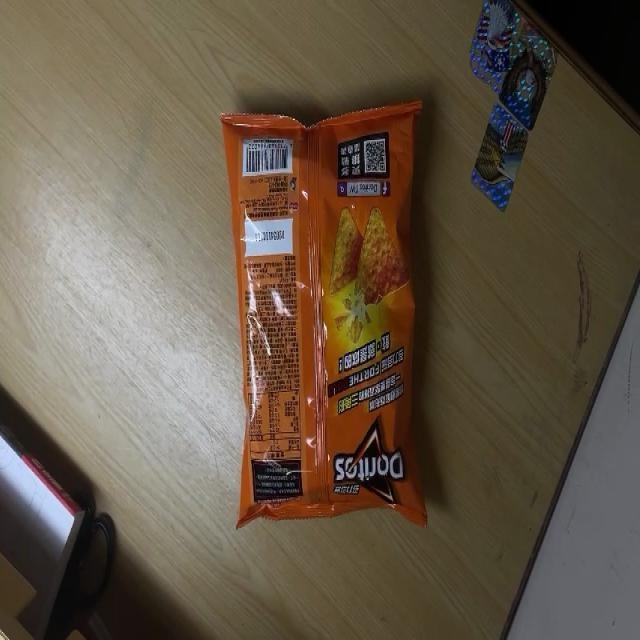Doritos: (221, 100, 430, 533)
